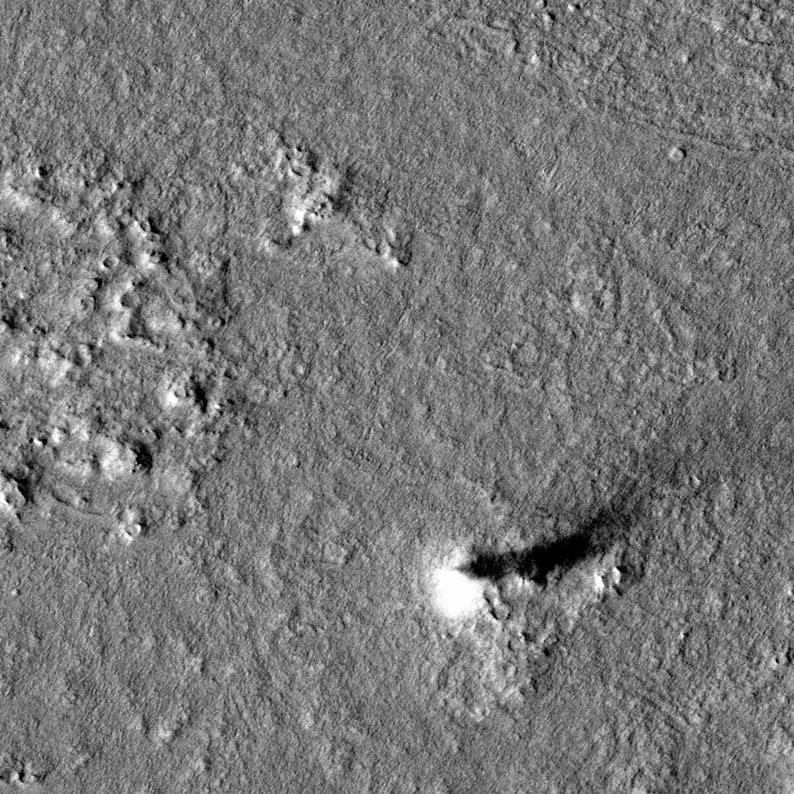dust_devil: (429, 494, 650, 626)
